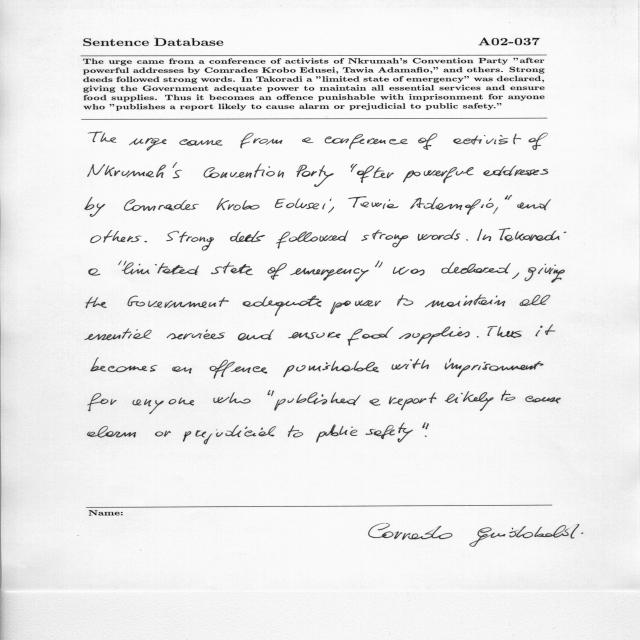word: (445, 359, 544, 378), (183, 425, 276, 444), (243, 295, 322, 316), (274, 392, 361, 411), (283, 361, 379, 377), (410, 197, 494, 215), (88, 163, 182, 179), (276, 231, 349, 249), (398, 327, 470, 345), (325, 134, 408, 149), (127, 296, 229, 308), (204, 164, 284, 179), (403, 167, 474, 183), (290, 268, 369, 282), (210, 360, 267, 379), (122, 261, 199, 275), (133, 397, 194, 414), (445, 391, 494, 411), (166, 231, 214, 251), (425, 295, 505, 307), (365, 423, 413, 443), (499, 228, 566, 242), (91, 358, 157, 372), (124, 199, 199, 211), (389, 393, 437, 411), (348, 327, 393, 346), (441, 262, 511, 274), (296, 165, 334, 187), (362, 230, 409, 247), (85, 329, 151, 341), (524, 264, 565, 283), (453, 134, 521, 145), (317, 425, 358, 443), (330, 300, 381, 314), (241, 133, 283, 149), (348, 196, 399, 209), (91, 230, 142, 243), (484, 166, 549, 176), (357, 166, 394, 183), (275, 199, 331, 210), (167, 330, 225, 340), (88, 426, 136, 438), (211, 262, 253, 275), (216, 198, 260, 210), (88, 393, 117, 411), (418, 229, 460, 241), (129, 138, 167, 151), (213, 392, 251, 404), (488, 326, 523, 338), (391, 359, 429, 370), (85, 197, 105, 217), (238, 330, 274, 341), (230, 231, 265, 242), (517, 199, 551, 210), (288, 332, 341, 339), (520, 295, 551, 306), (528, 133, 548, 150), (267, 263, 287, 280), (418, 133, 437, 150), (88, 132, 116, 143), (180, 139, 223, 146), (393, 267, 425, 276), (525, 396, 561, 404), (86, 297, 107, 308), (536, 325, 556, 336), (288, 426, 303, 438), (397, 295, 413, 306), (477, 229, 491, 241), (501, 390, 516, 401), (172, 366, 192, 374), (155, 431, 171, 437), (89, 269, 100, 276), (370, 399, 381, 406), (302, 138, 314, 143), (425, 423, 429, 437), (375, 261, 382, 268), (351, 164, 357, 172), (512, 273, 519, 279), (267, 391, 274, 397), (328, 207, 334, 213), (493, 207, 498, 214), (505, 195, 512, 200), (422, 423, 426, 429), (118, 261, 122, 265), (466, 239, 468, 241), (145, 241, 147, 242), (477, 336, 479, 337)
